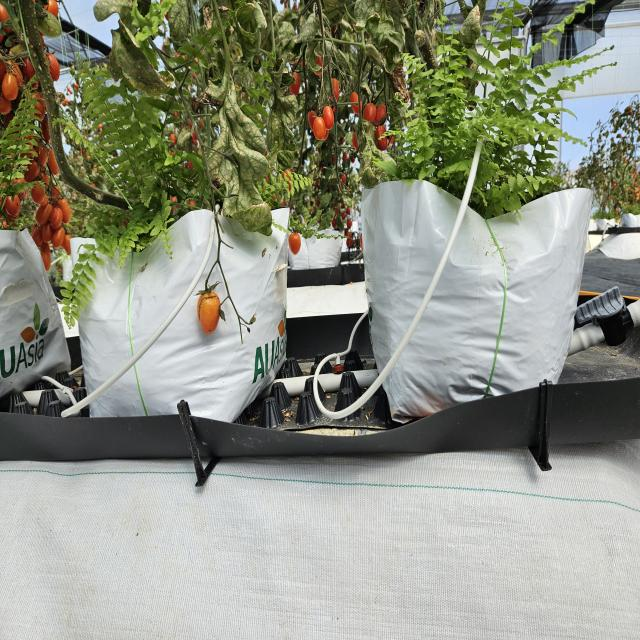Soilbag: (49, 198, 291, 430), (353, 174, 582, 416)
plant: (7, 0, 284, 229)
